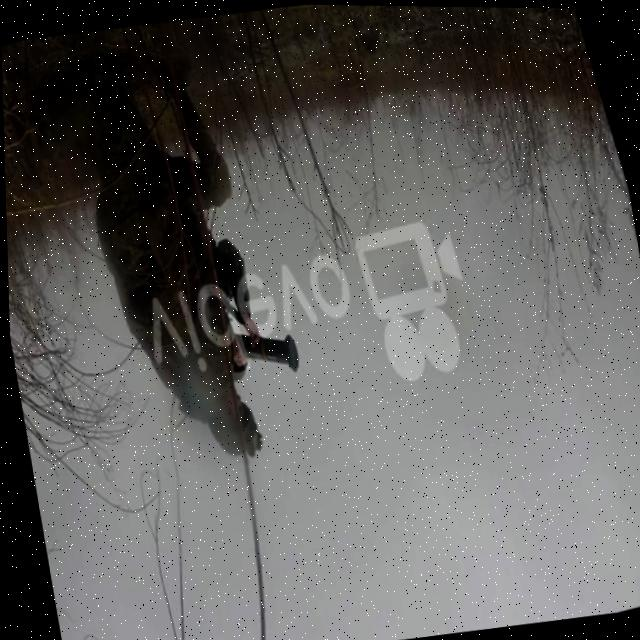rocket: (229, 312, 302, 388)
